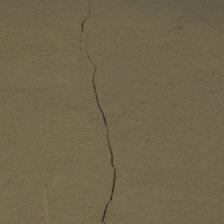Crack: (80, 7, 125, 221)
